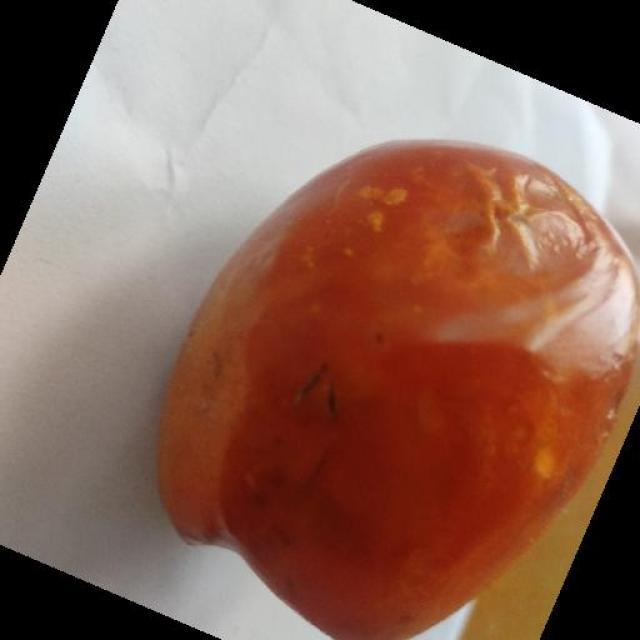Rotten Tomato: (154, 120, 629, 631)
